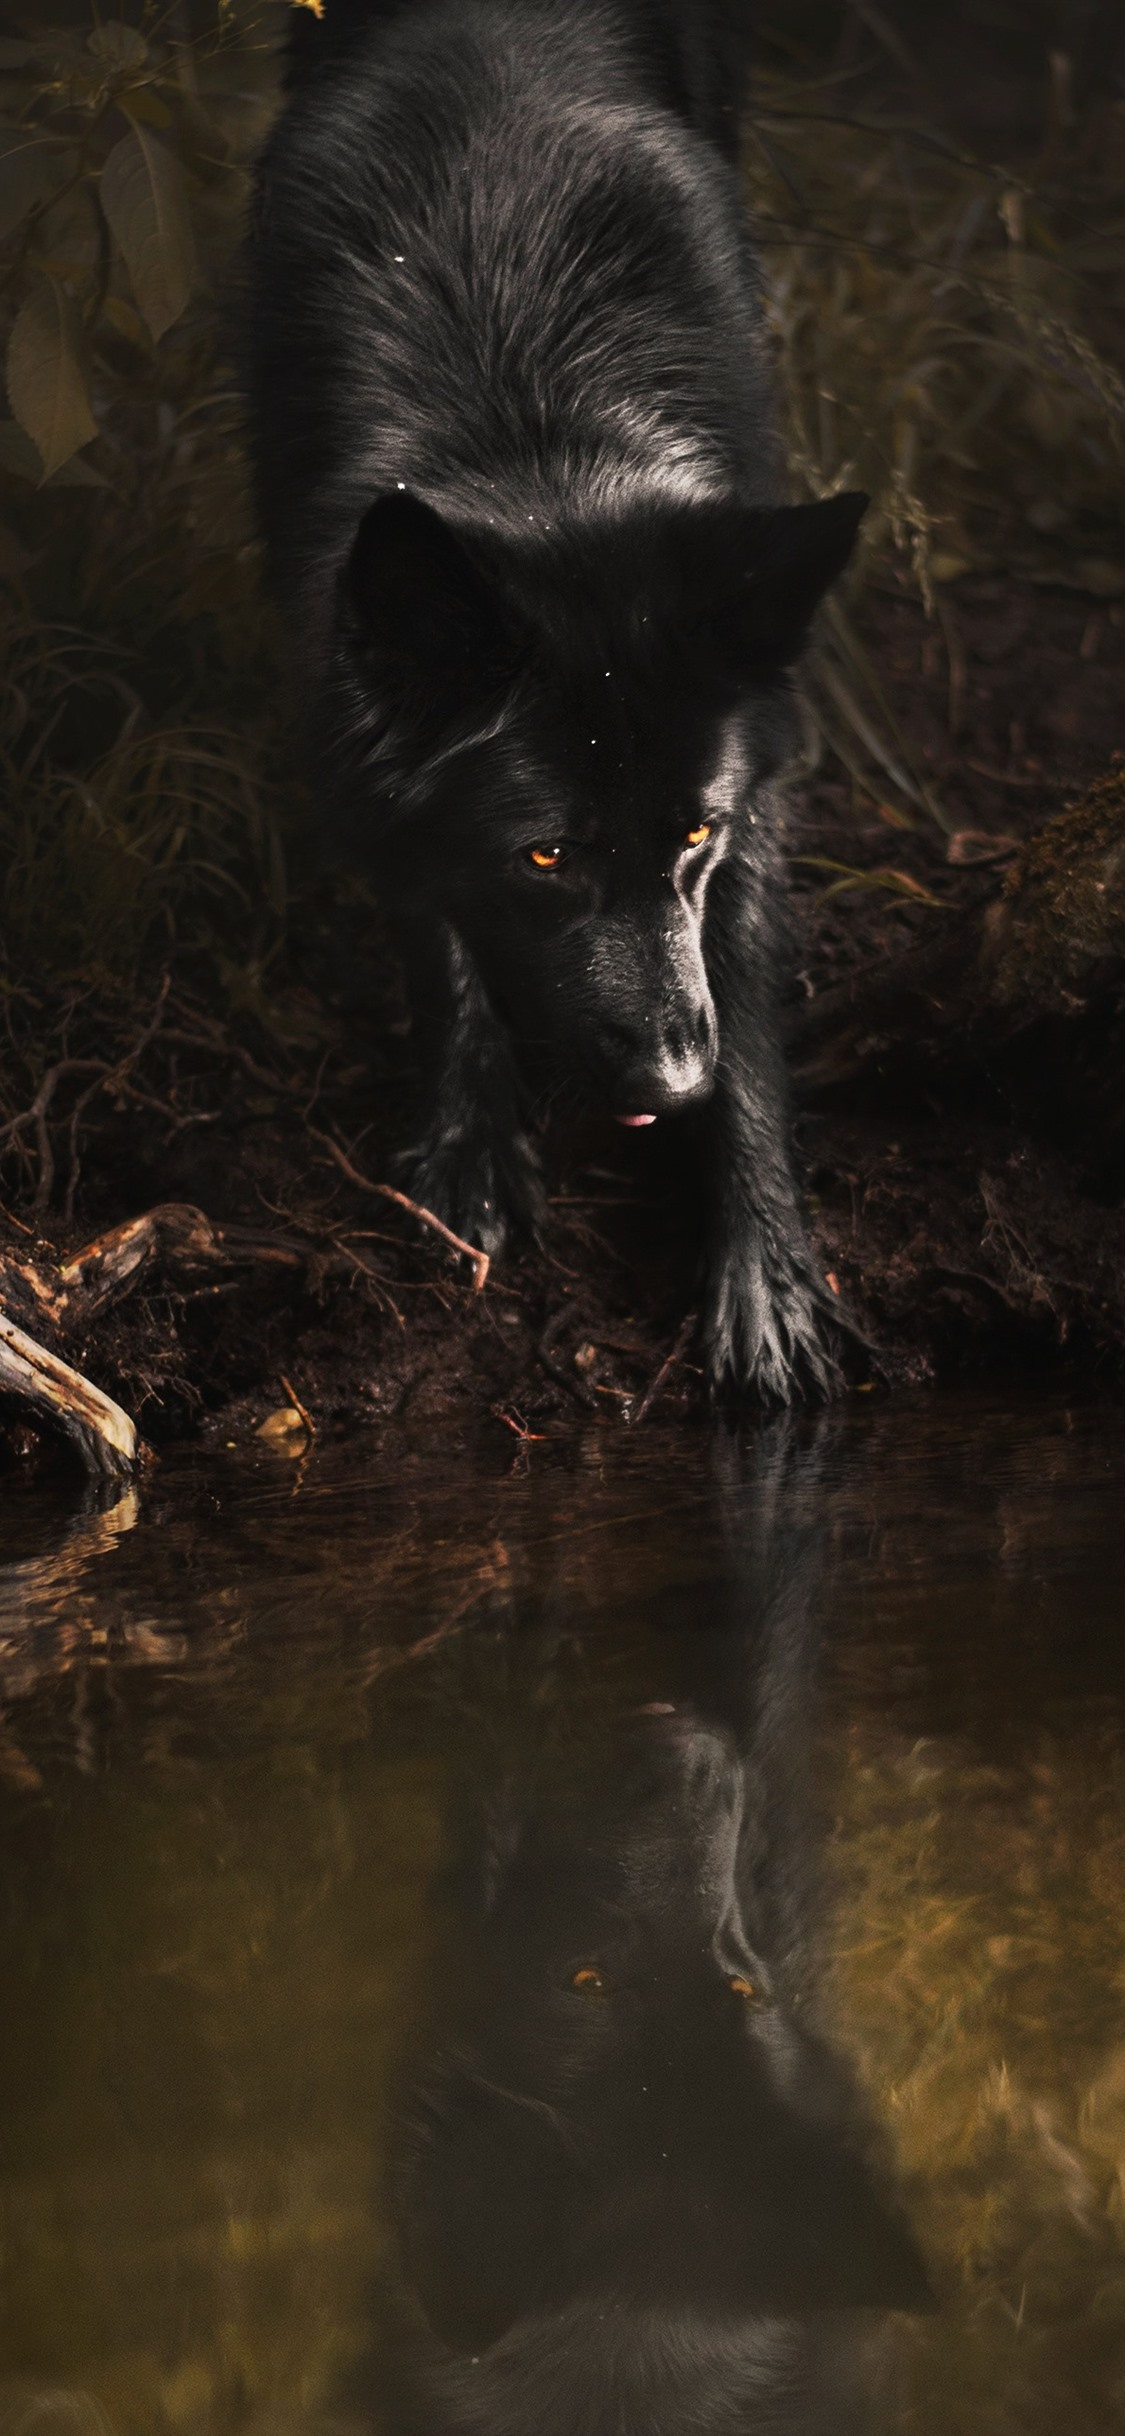Lobo: (246, 43, 967, 1403)
